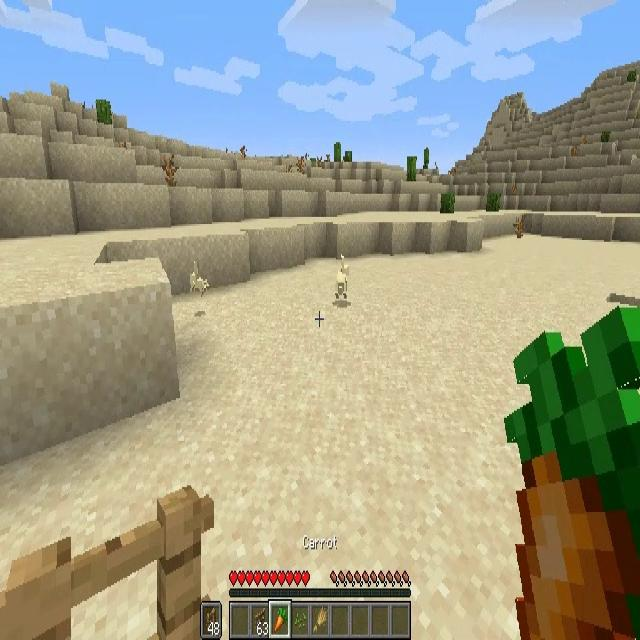rabbit: (190, 260, 209, 293), (335, 260, 349, 304)
